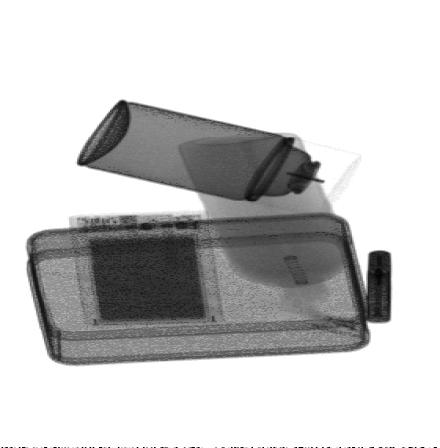Lighter: (367, 250, 391, 325)
Powerbank: (69, 212, 227, 328)
Sprayer: (77, 98, 364, 215)
